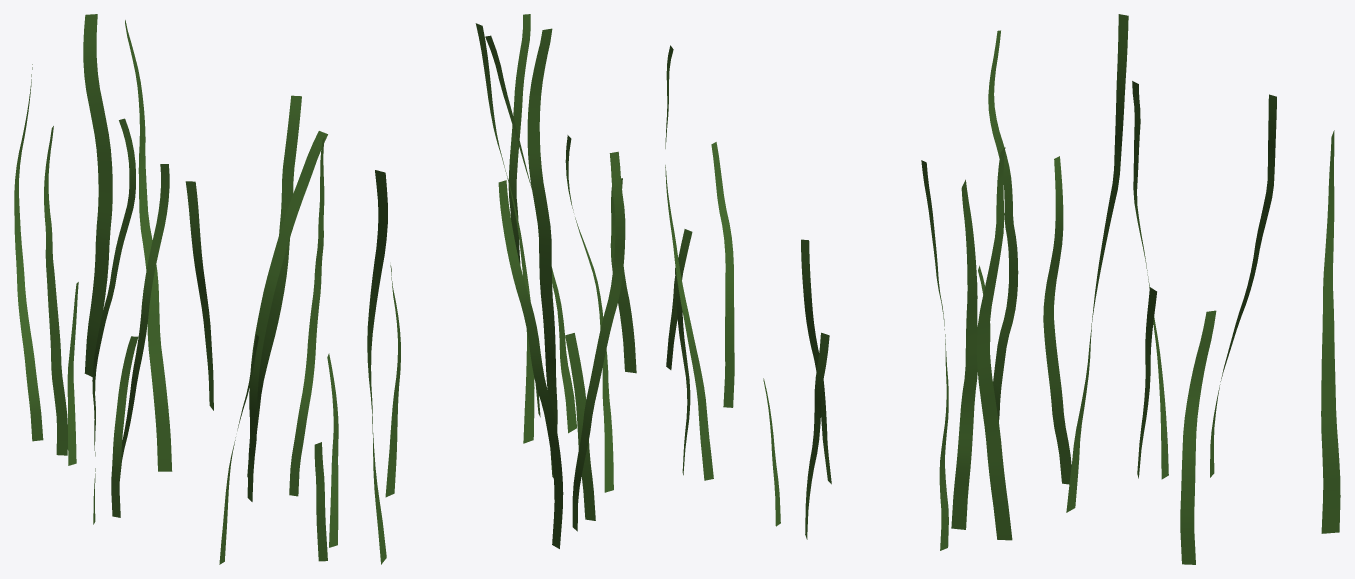
File: plant_swamp_kelp_giant_A_light.fbx
The picture shows the model from 3 angles, left to right: view 1: azimuth 30°, elevation 25°; view 2: azimuth 150°, elevation 25°; view 3: azimuth 270°, elevation 25°; orthographic projection. The views are drawn at different scales.
Parts seen in each view (by area): view 1: plant_swamp_kelp_giant_A_light; view 2: plant_swamp_kelp_giant_A_light; view 3: plant_swamp_kelp_giant_A_light.
Boxes of the visible parts, x1,y1,x2,y2 form: plant_swamp_kelp_giant_A_light: (14,14,338,564); plant_swamp_kelp_giant_A_light: (367,14,734,564); plant_swamp_kelp_giant_A_light: (763,14,1340,564).
Bounding box in the file's own units: 274 × 514 × 551.
